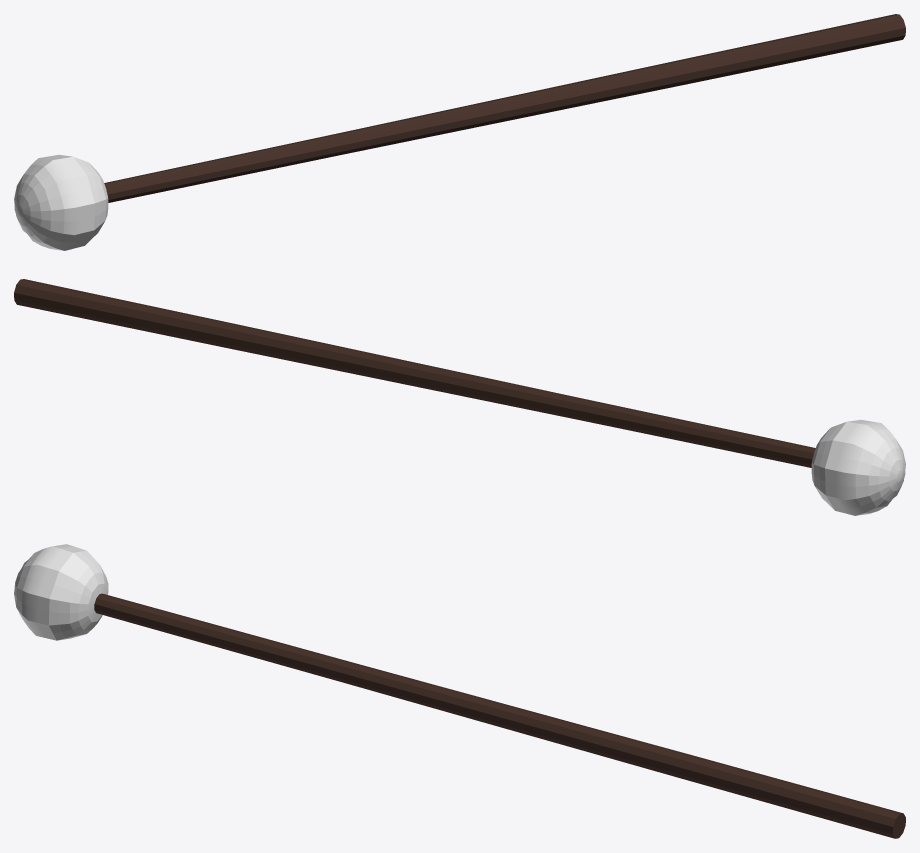
Rendered from Q_tip.fbx.
3 renders of one model, top to bottom at view 1: azimuth 30°, elevation 25°; view 2: azimuth 150°, elevation 25°; view 3: azimuth 330°, elevation 25°, orthographic.
Parts seen in each view (by area): view 1: Q_tips_3; view 2: Q_tips_3; view 3: Q_tips_3.
Boxes of the visible parts, x1,y1,x2,y2 form: Q_tips_3: [14, 14, 905, 250]; Q_tips_3: [14, 279, 905, 515]; Q_tips_3: [14, 544, 905, 838].
Bounding box in the file's own units: 87.4 × 8.36 × 7.96.
